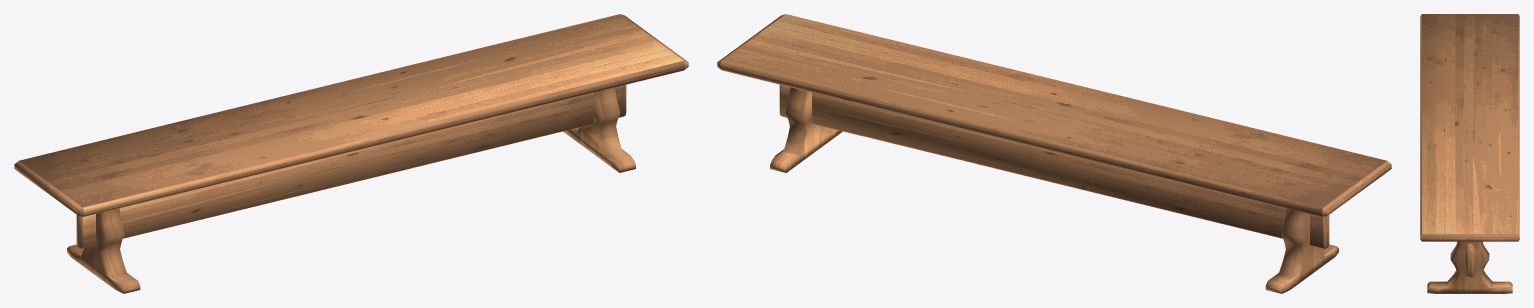
The model's file is bench.glb.
3 views of the same model, side by side, from view 1: azimuth 30°, elevation 25°; view 2: azimuth 150°, elevation 25°; view 3: azimuth 270°, elevation 25° (orthographic). The views are drawn at different scales.
Visible parts, largest first — view 1: bench; view 2: bench; view 3: bench.
Part boxes in pixels (x1=…): bench: x1=14, y1=14, x2=688, y2=293; bench: x1=717, y1=14, x2=1391, y2=293; bench: x1=1420, y1=14, x2=1519, y2=293.
Size of the model in its own units: 2.28 by 0.3572 by 0.4287.
1 material, 1 textured.
